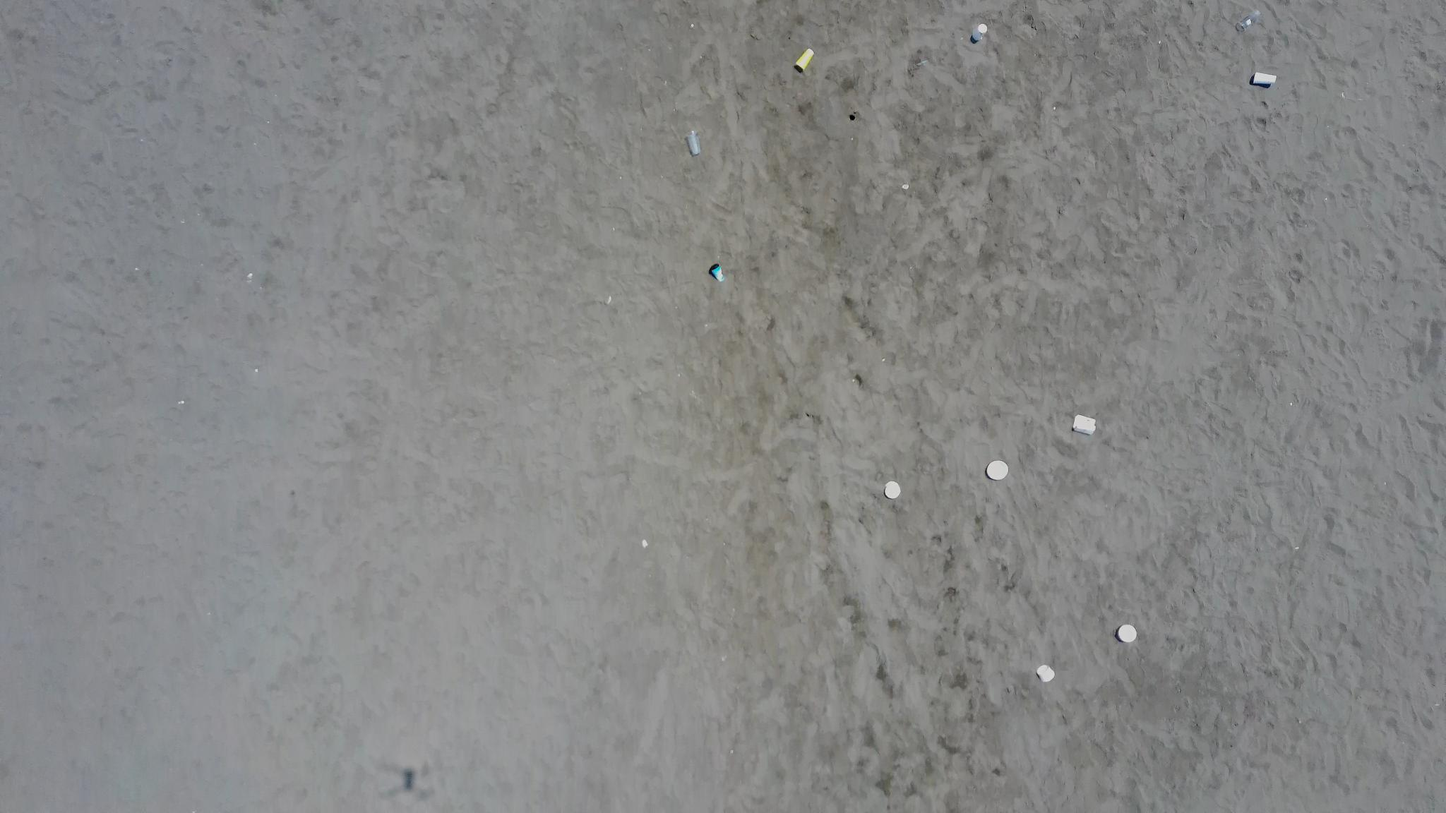Garbage: (1235, 9, 1260, 30), (794, 48, 814, 73), (985, 460, 1008, 480), (1250, 71, 1276, 88), (1072, 414, 1094, 434), (1115, 623, 1135, 643), (688, 130, 700, 155), (971, 24, 987, 42), (708, 263, 724, 281), (1037, 665, 1054, 681), (885, 481, 900, 499), (641, 538, 647, 547)
